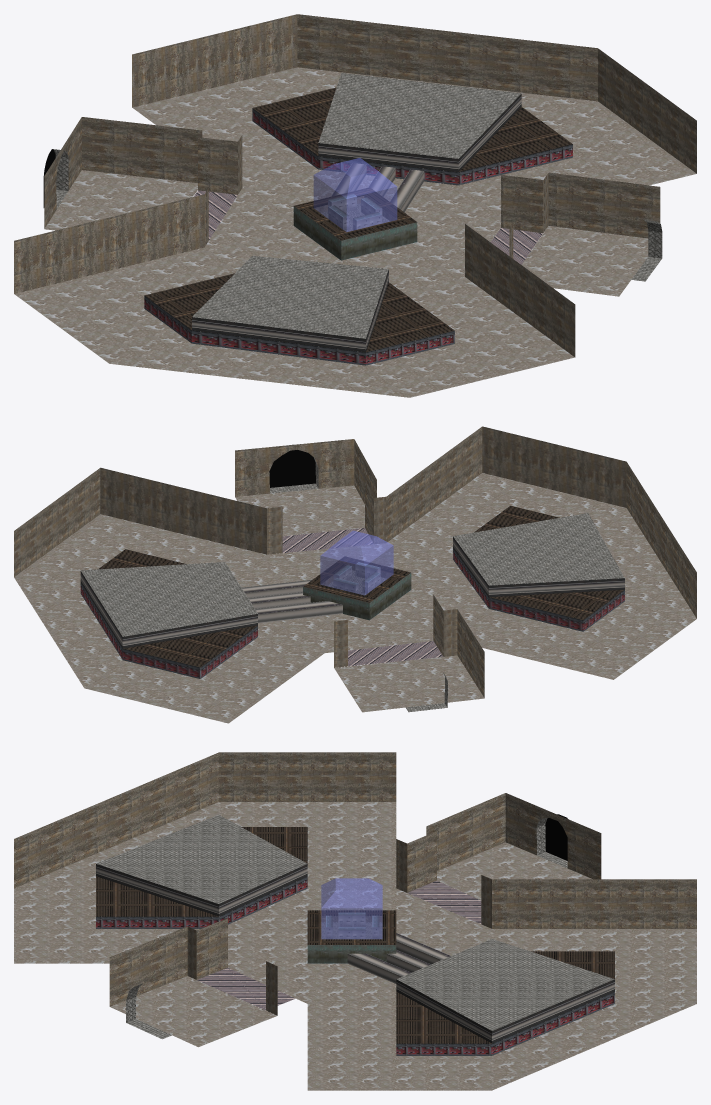
File: boss_room.glb
3 views of the same model, one above another, from view 1: azimuth 30°, elevation 25°; view 2: azimuth 150°, elevation 25°; view 3: azimuth 270°, elevation 25° (orthographic). The views are drawn at different scales.
Visible parts, largest first — view 1: battlefield-col; view 2: battlefield-col; view 3: battlefield-col.
Boxes of the visible parts, <box> form: battlefield-col: <box>14,14,696,397</box>; battlefield-col: <box>14,426,696,723</box>; battlefield-col: <box>14,752,696,1090</box>.
Size of the model in its own units: 100 by 10.41 by 100.
Materials: 11 (9 with a texture image).
